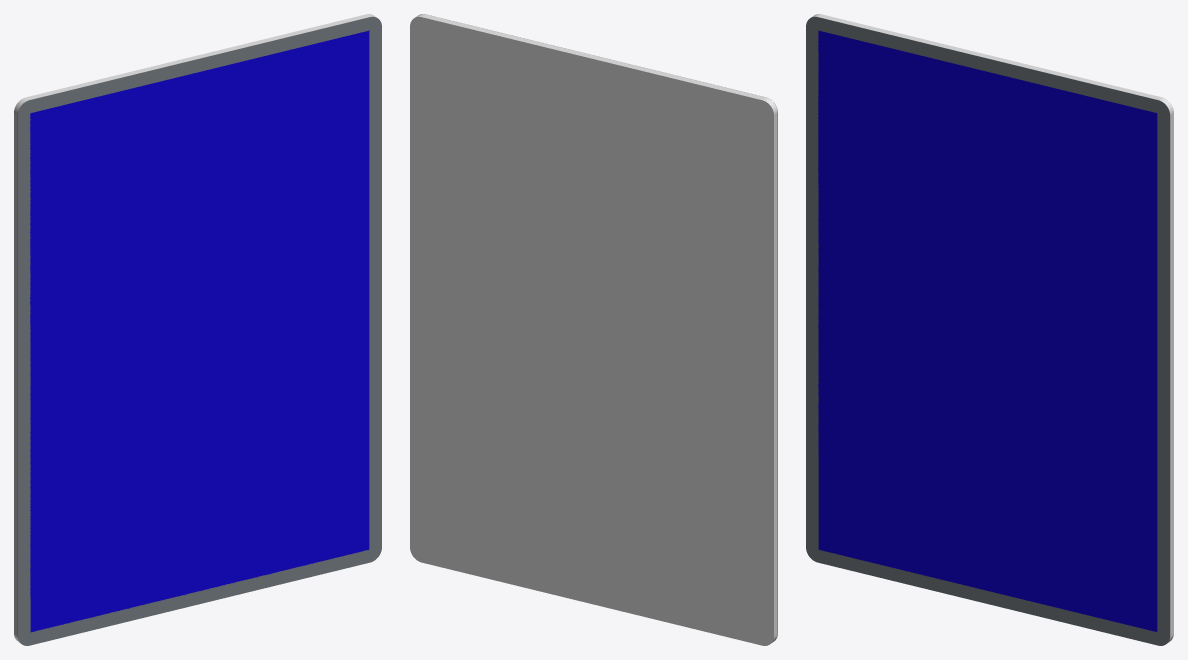
The model's file is NOLANFIREBALL.fbx.
3 views of the same model, side by side, from view 1: azimuth 30°, elevation 25°; view 2: azimuth 150°, elevation 25°; view 3: azimuth 330°, elevation 25° (orthographic).
Parts seen in each view (by area): view 1: Plane.001, Plane; view 2: Plane, Plane.001; view 3: Plane.001, Plane.
Boxes of the visible parts, x1=… form: Plane.001: x1=17, y1=16, x2=381, y2=645; Plane: x1=14, y1=14, x2=376, y2=642; Plane: x1=410, y1=14, x2=777, y2=645; Plane.001: x1=421, y1=14, x2=777, y2=638; Plane.001: x1=806, y1=16, x2=1170, y2=645; Plane: x1=811, y1=14, x2=1173, y2=642.
Size of the model in its own units: 349 by 500 by 6.53.
